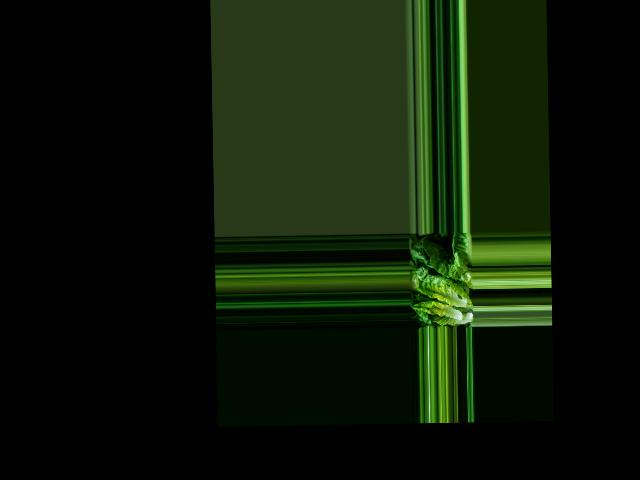lettuce: (413, 264, 474, 326)
